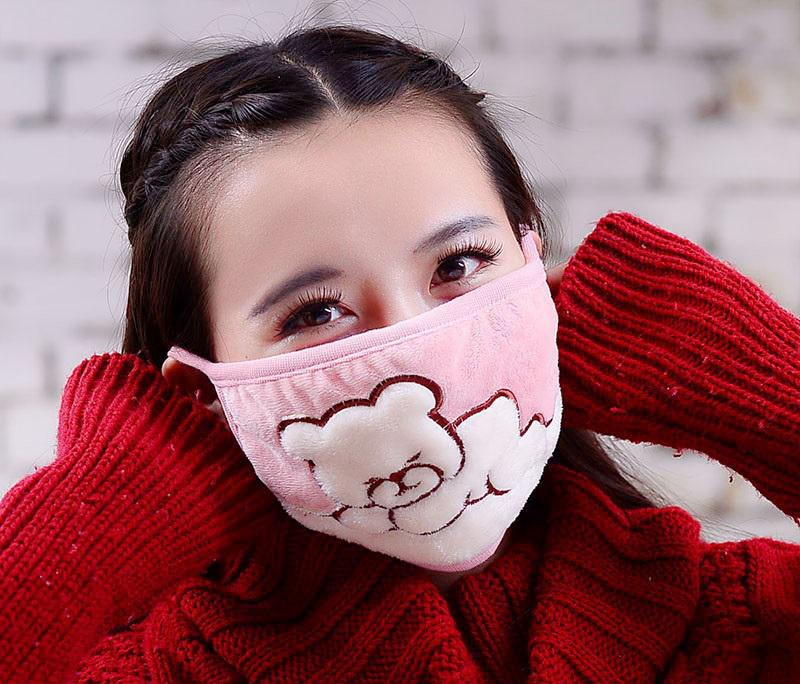OK: (201, 211, 551, 561)
